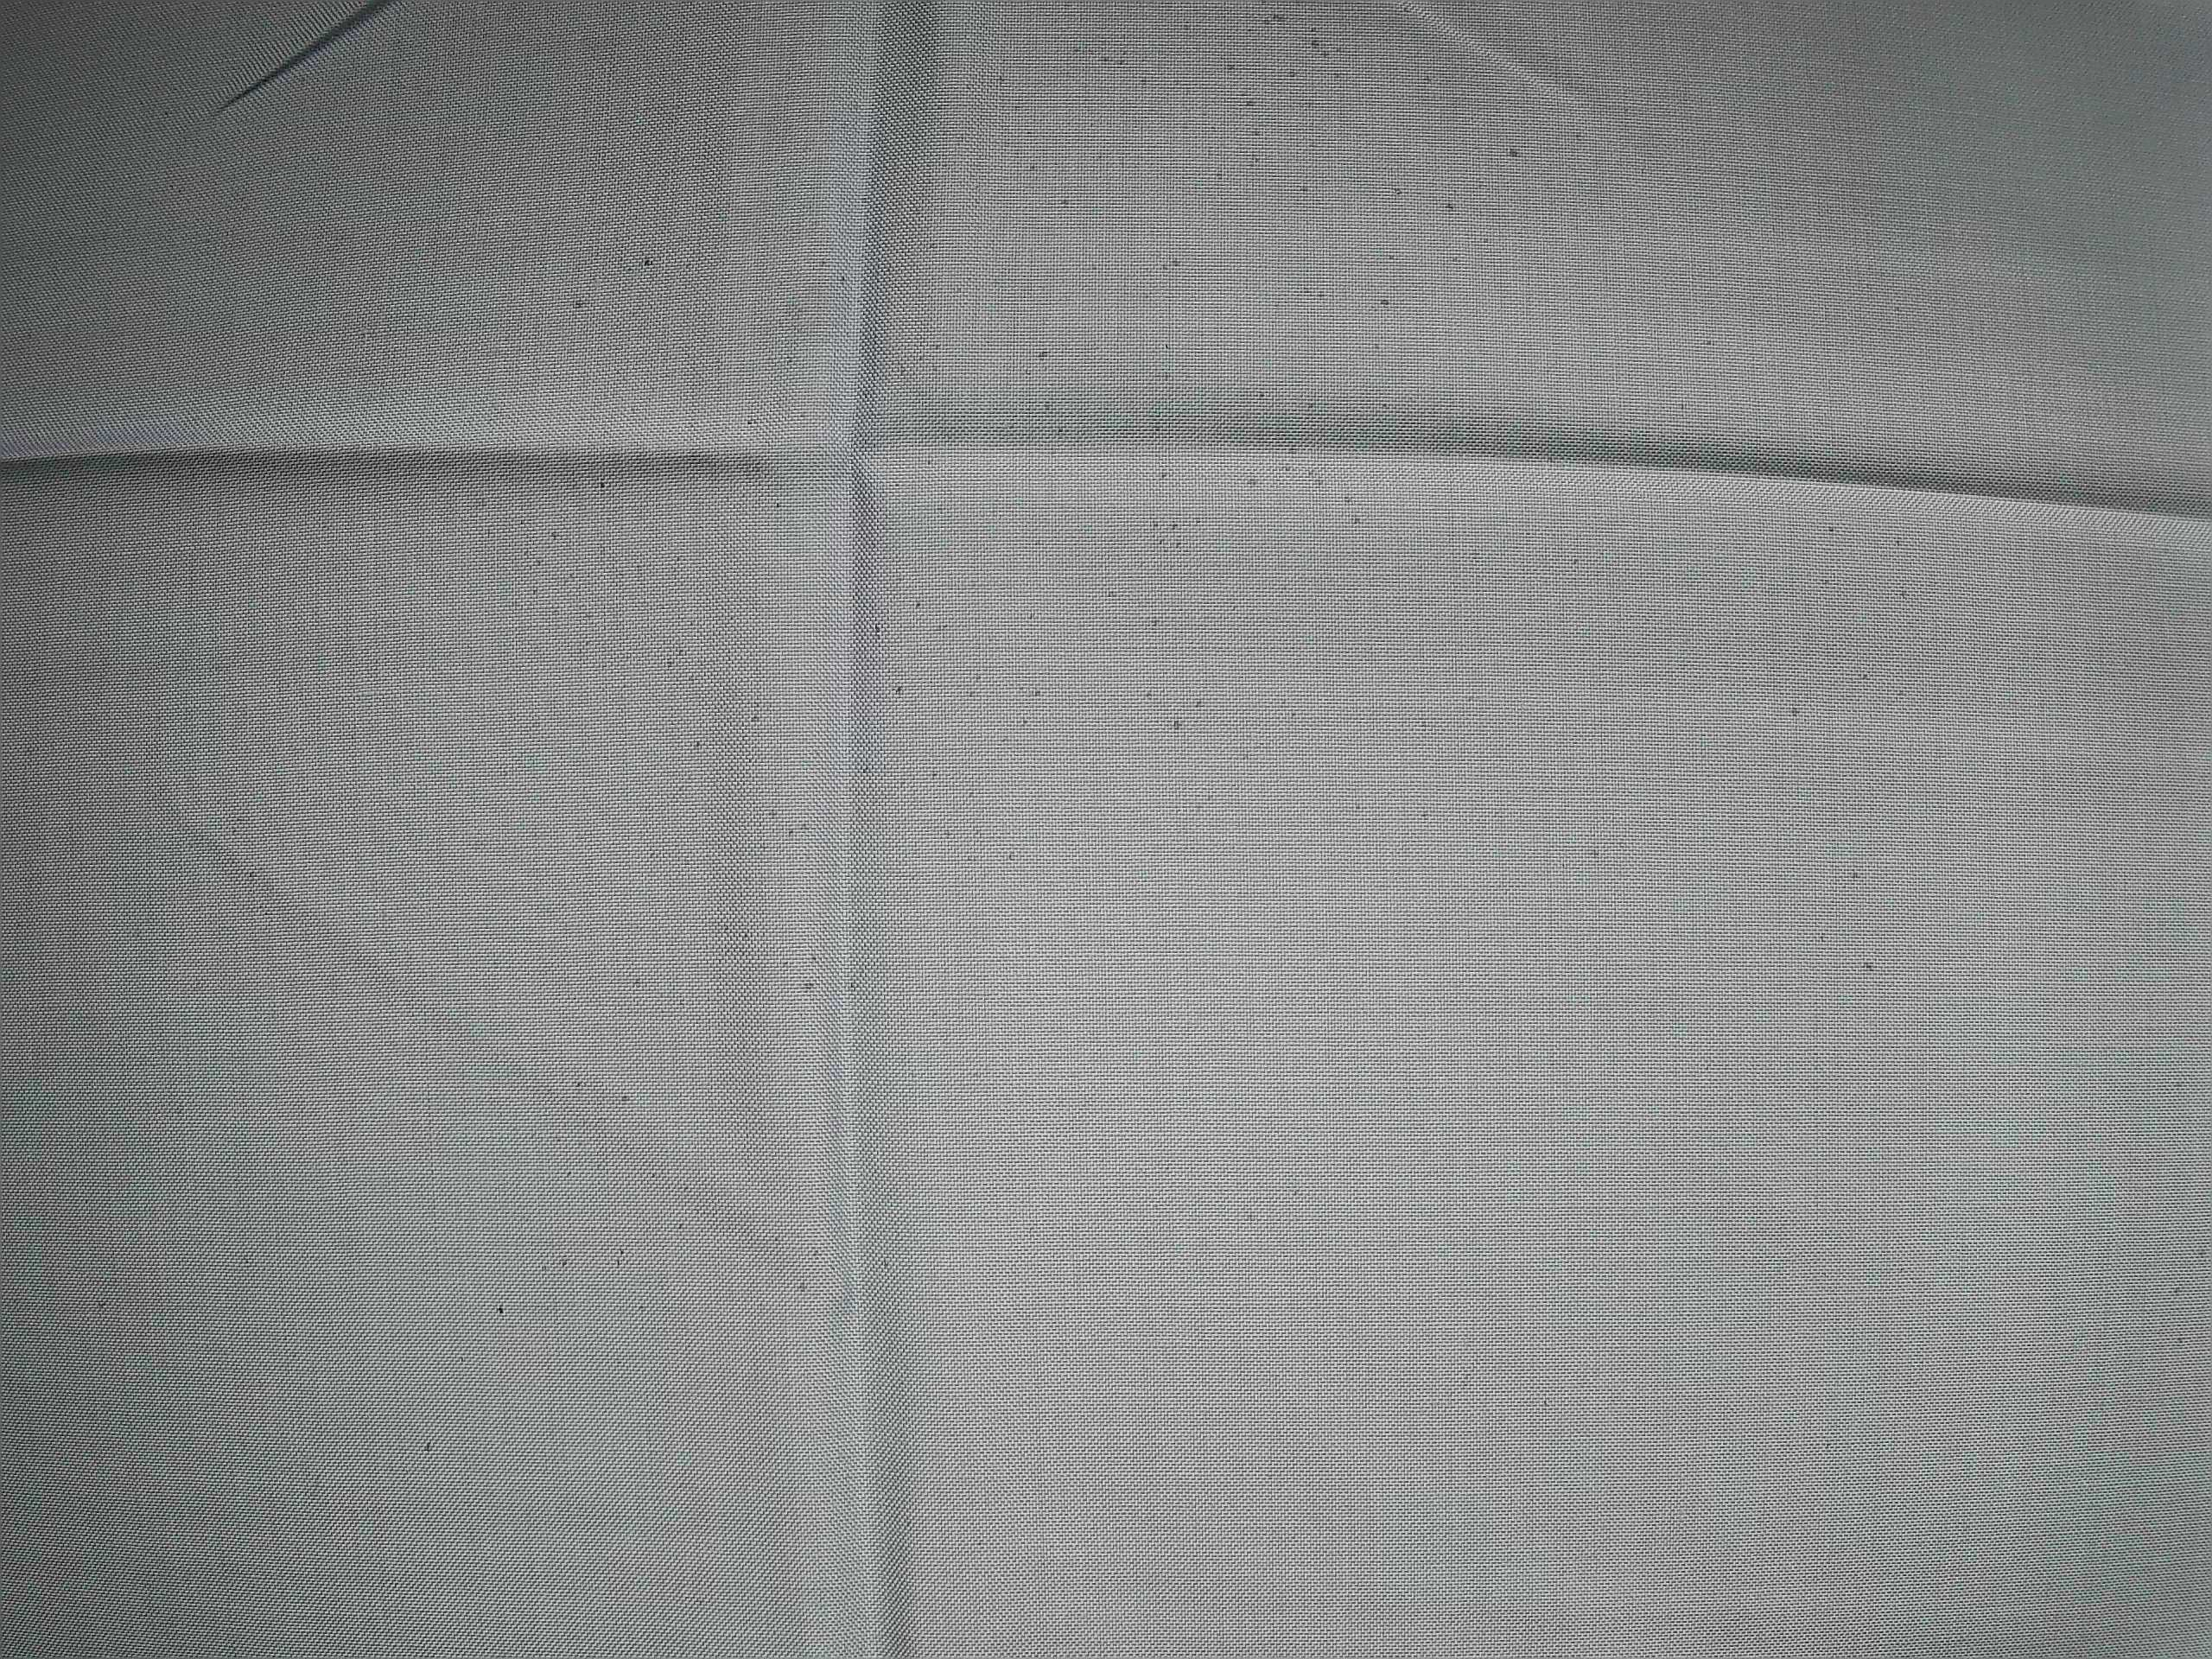stains: (483, 31, 1573, 952)
